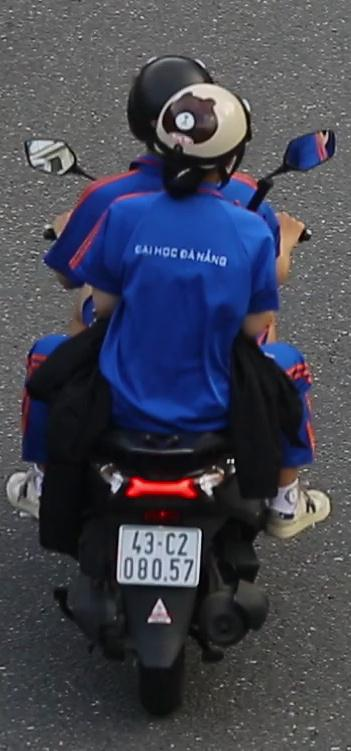LP: (113, 519, 206, 593)
helmet: (153, 81, 253, 206)
